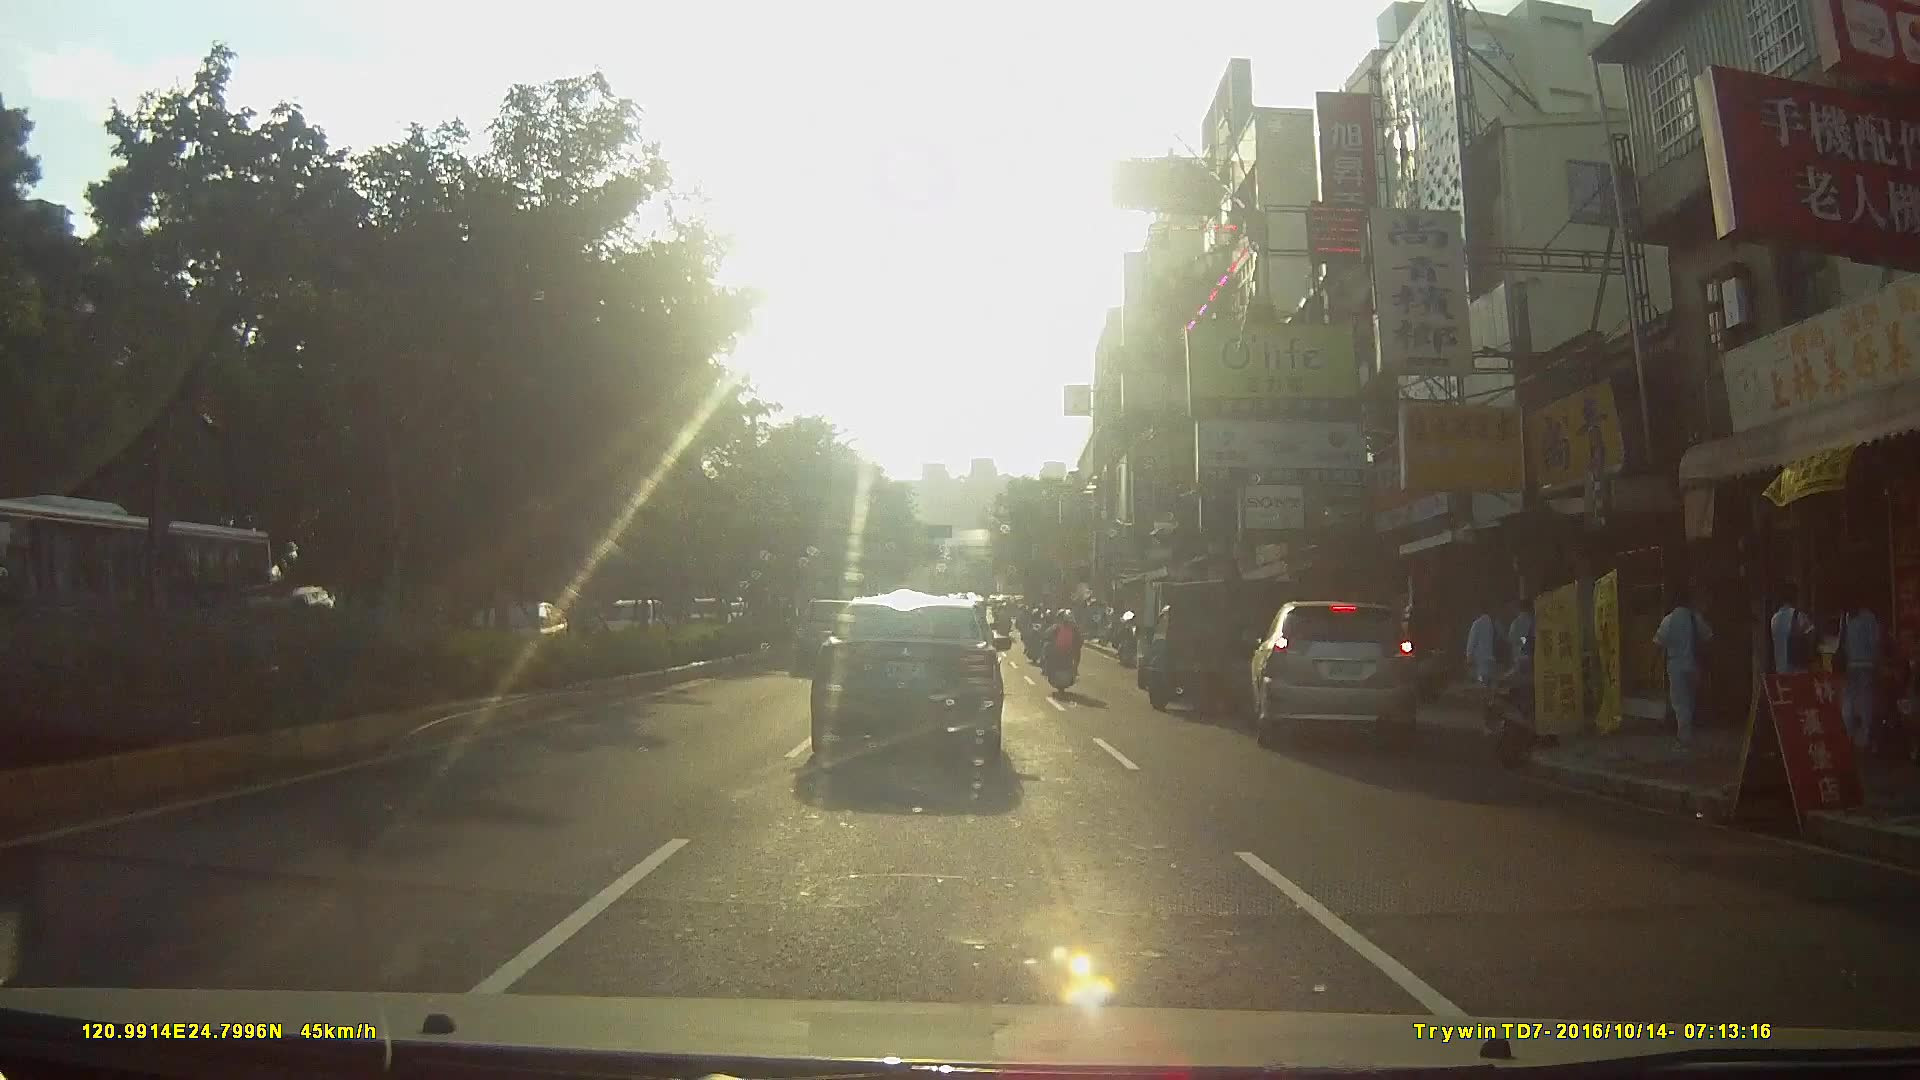pedestrian: (1770, 582, 1826, 771), (1833, 583, 1888, 764), (1658, 588, 1713, 753), (1463, 593, 1516, 720)
rider: (1040, 601, 1082, 696), (1024, 610, 1048, 663)
vehicle: (1, 496, 281, 667), (807, 593, 1024, 776), (1244, 591, 1445, 764), (1124, 572, 1265, 728)
